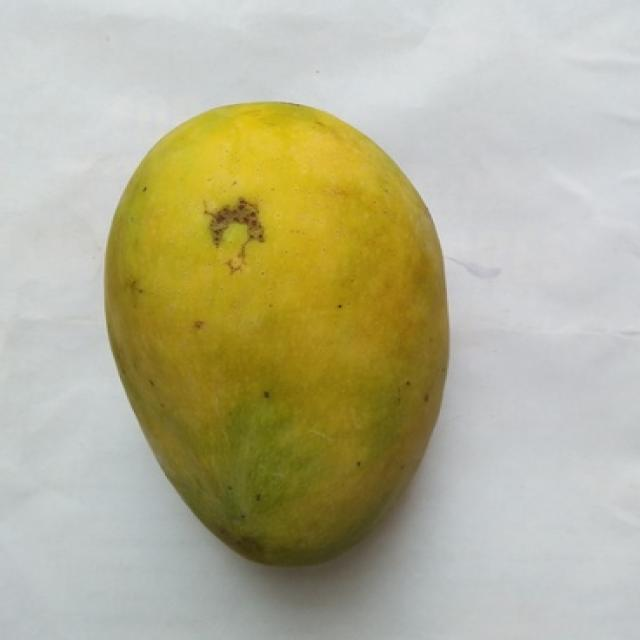Mango: (106, 103, 447, 563)
